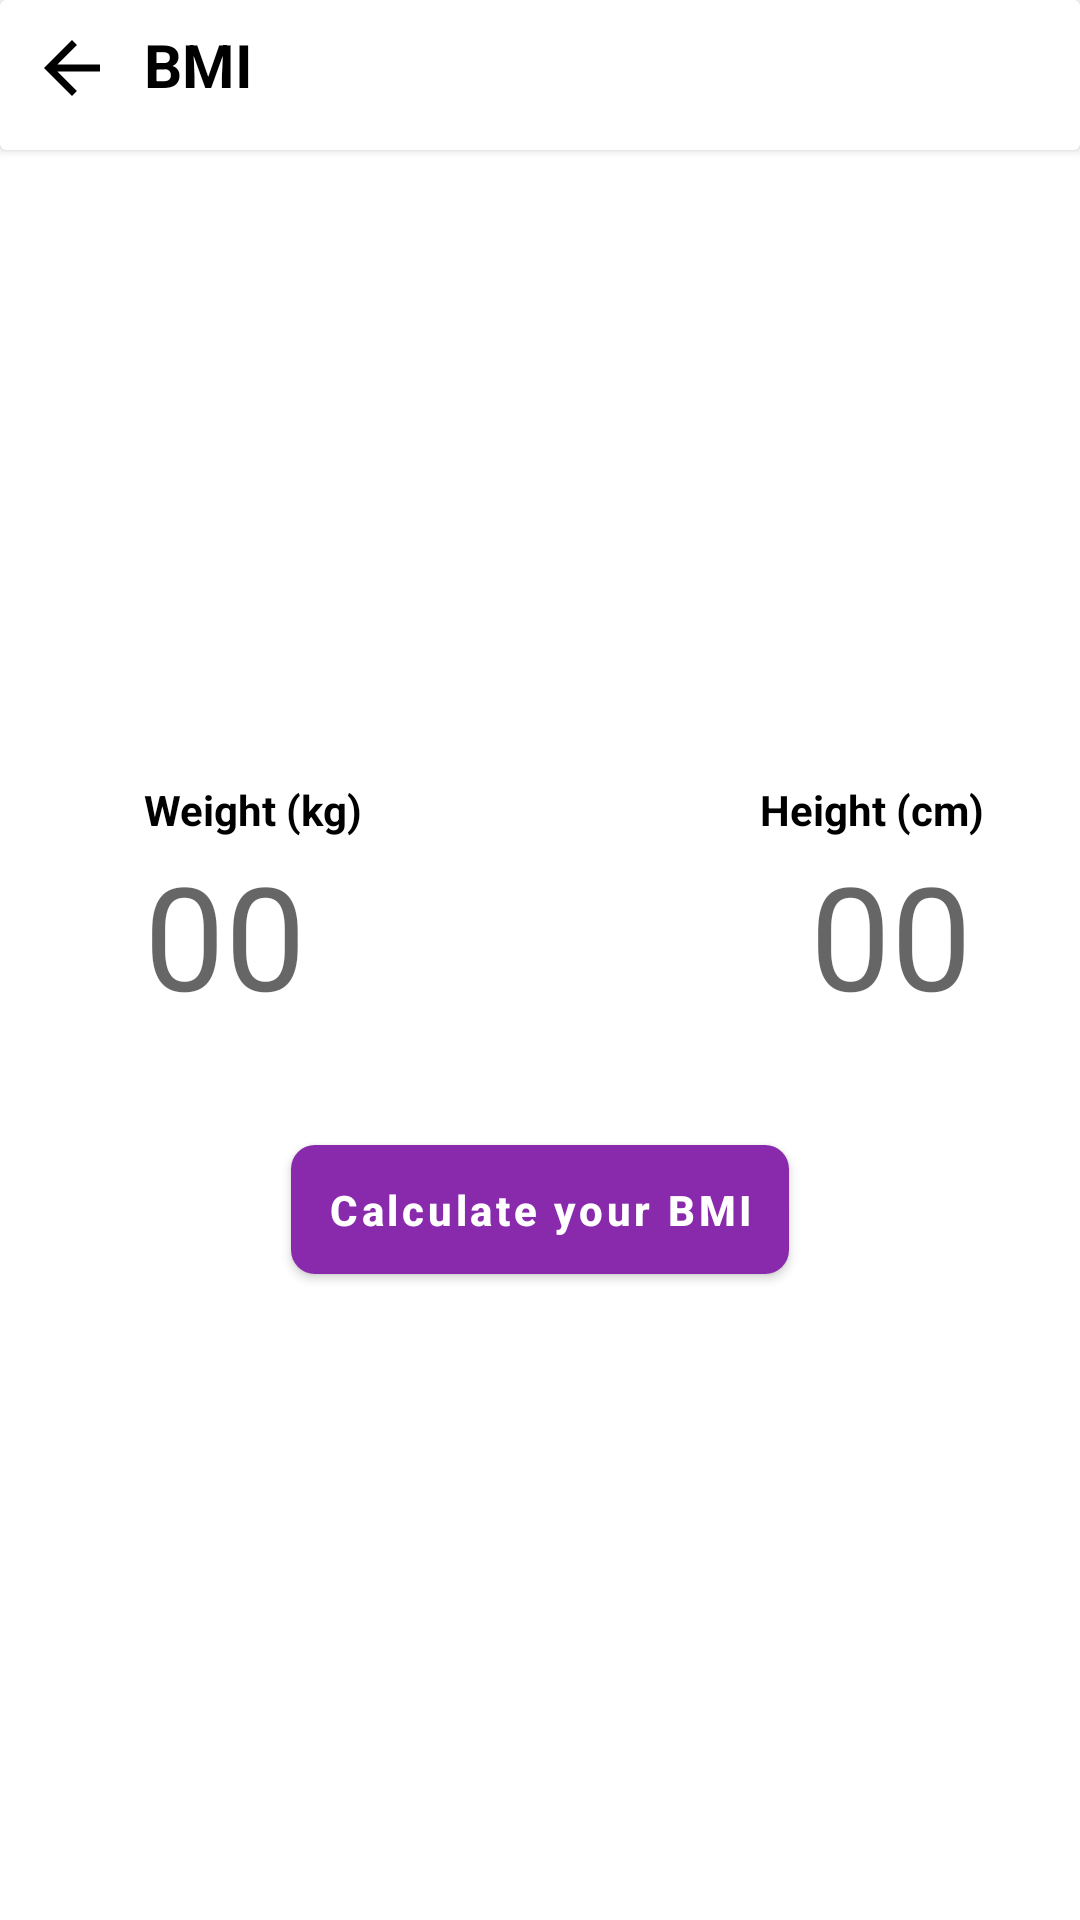

Where icons sit on this 1080x1920 app screen, as [x1, y1, x2, y2]:
arrow: [44, 40, 100, 96]
